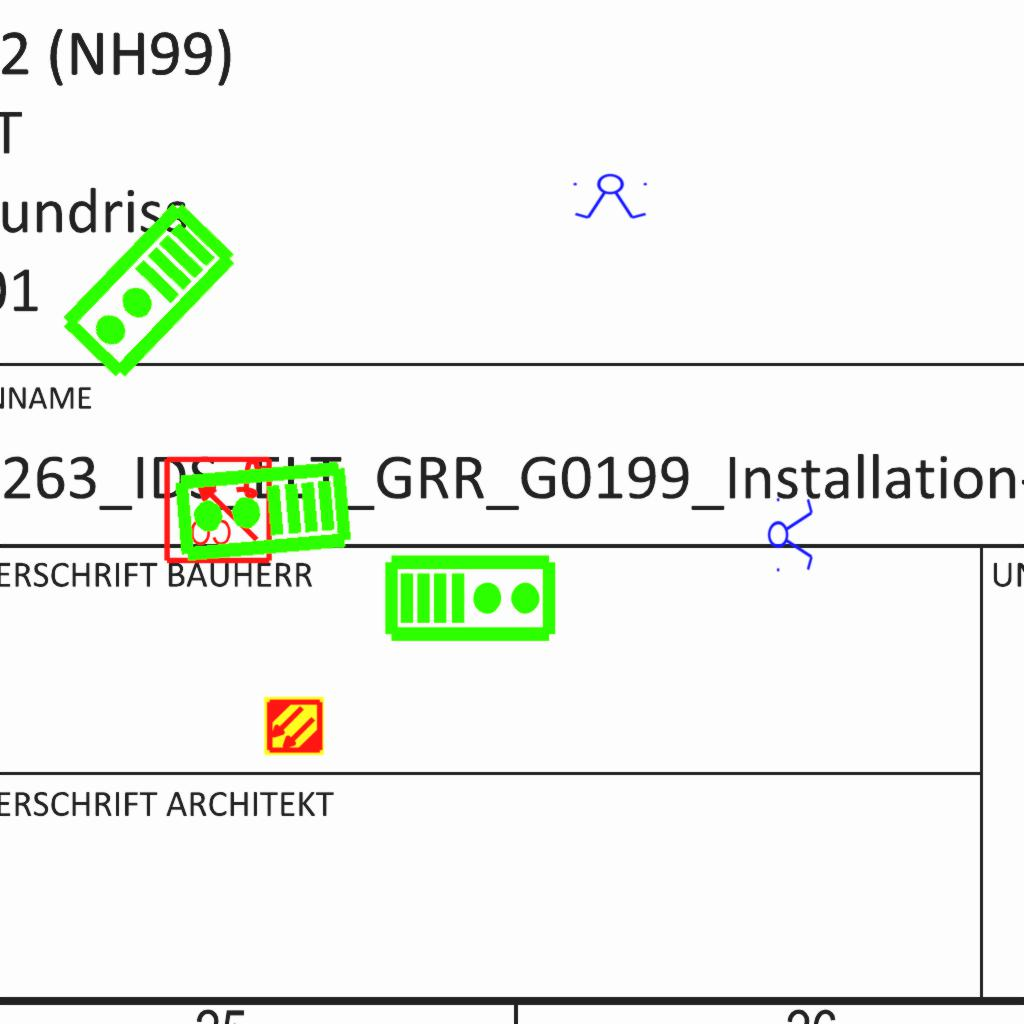ASR_Ansaugrauchmelder: (263, 695, 325, 757)
Gegensprechanlage_mit_Video: (54, 195, 245, 389), (170, 458, 355, 568), (383, 549, 559, 644)
ROA_Rauchmelder_optisch_mit_Signalgeber_(Sockelsirene): (161, 452, 274, 565)
Serienschalter: (767, 492, 815, 576), (569, 173, 653, 221)
